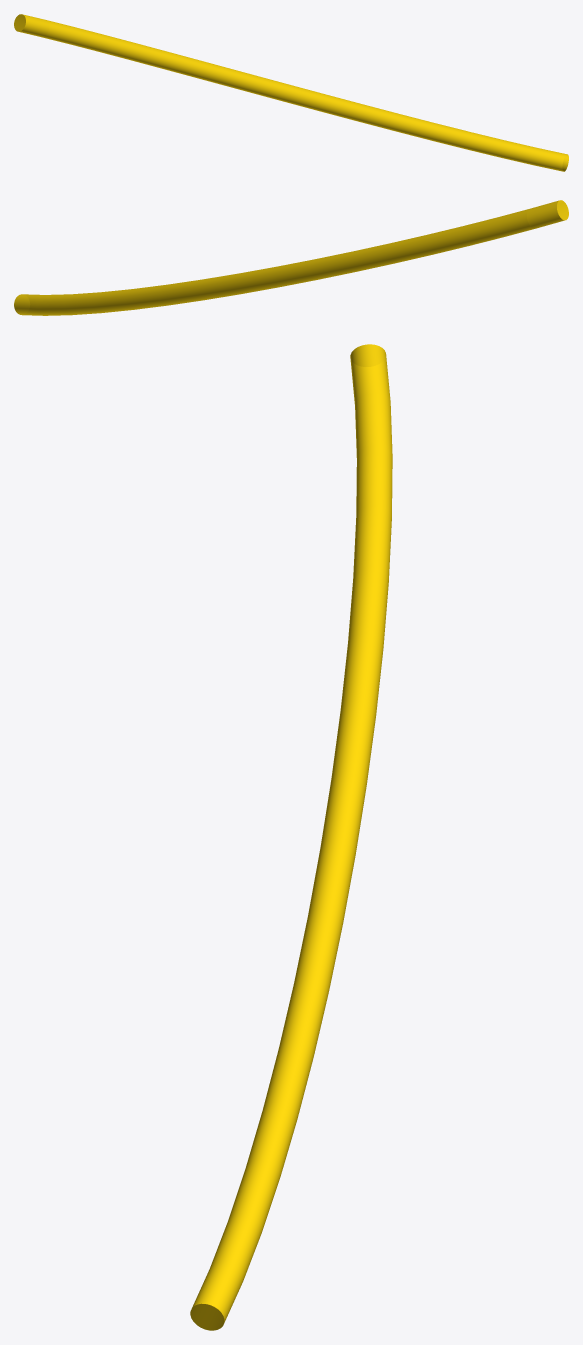
Rendered from Event_421278790_track_44.fbx.
3 renders of one model, top to bottom at view 1: azimuth 30°, elevation 25°; view 2: azimuth 150°, elevation 25°; view 3: azimuth 270°, elevation 25°, orthographic. The views are drawn at different scales.
Parts seen in each view (by area): view 1: Model; view 2: Model; view 3: Model.
Part boxes in pixels (x1,y1,x2,y2): Model: [14, 14, 568, 171]; Model: [14, 200, 568, 315]; Model: [190, 344, 392, 1330].
Bounding box in the file's own units: 1.32 × 0.6111 × 0.2248.
